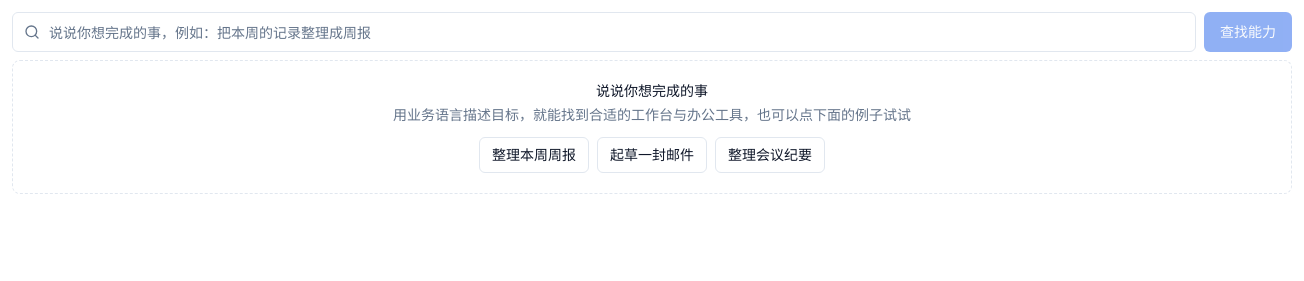
Test: GoalLauncher › 插件卡「开始」跳工作台并携带目标
Later steps or results of the test are not shown.
Click the button "整理本周周报": coordinates (534, 155) [479,137,589,173]
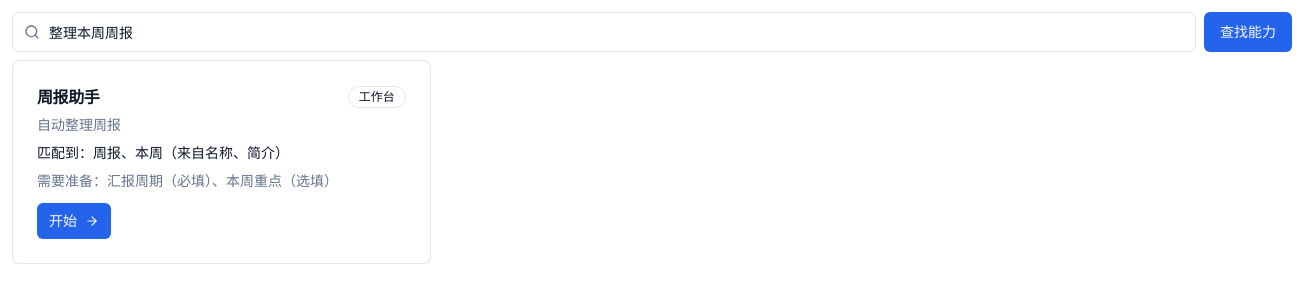
Now the text "周报助手" is shown, box [37,85,99,109]
